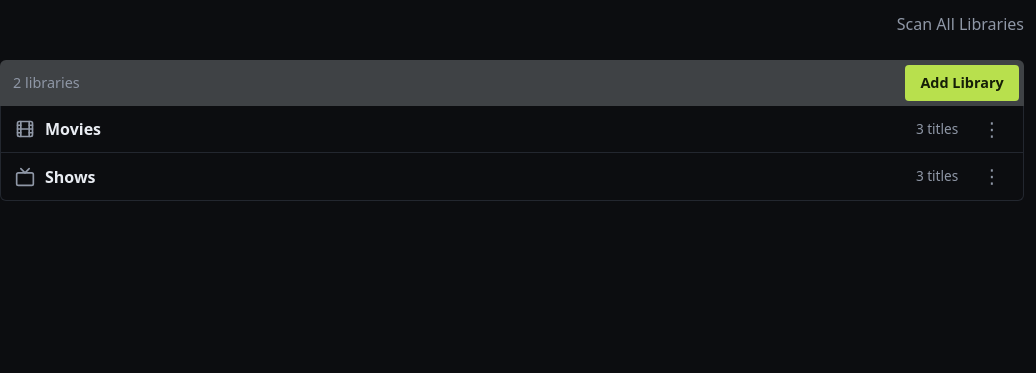
Test case: AdminLibrariesScreen — linked libraries live elsewhere › renders exactly as before on a household that never linked
Expected: the list with test id "admin-library-list" is shown, [1,106,1023,200]
Click the button with test id "library-menu-toggle" in the row of "Movies" at (992, 129), box [974,116,1009,143]
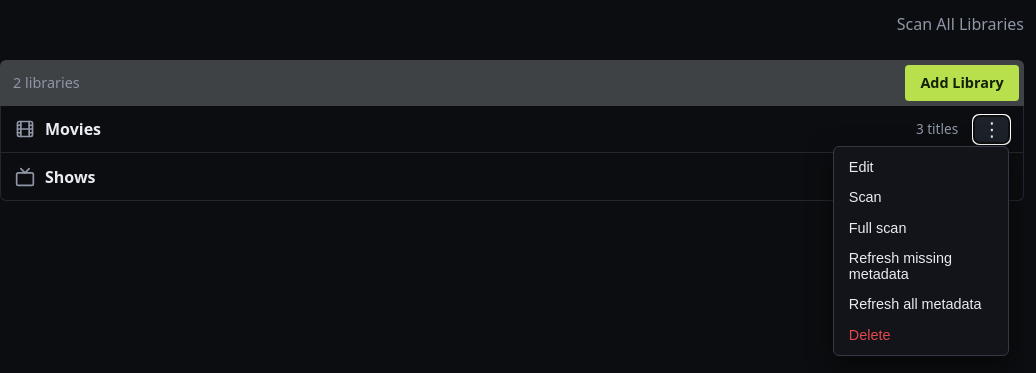
Now the menu item with test id "edit-library-button" is enabled, box [839,152,1004,182]
Now the menu item with test id "scan-button" is enabled, box [839,182,1004,213]
Now the menu item with test id "full-scan-button" is enabled, box [839,212,1004,243]
